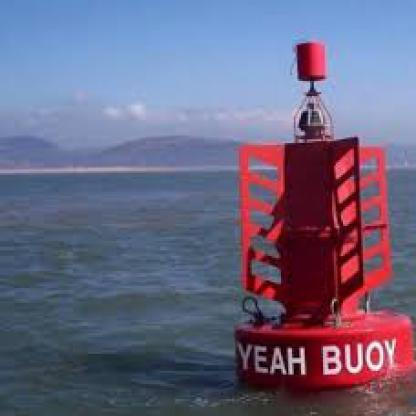buoy: (214, 38, 414, 399)
